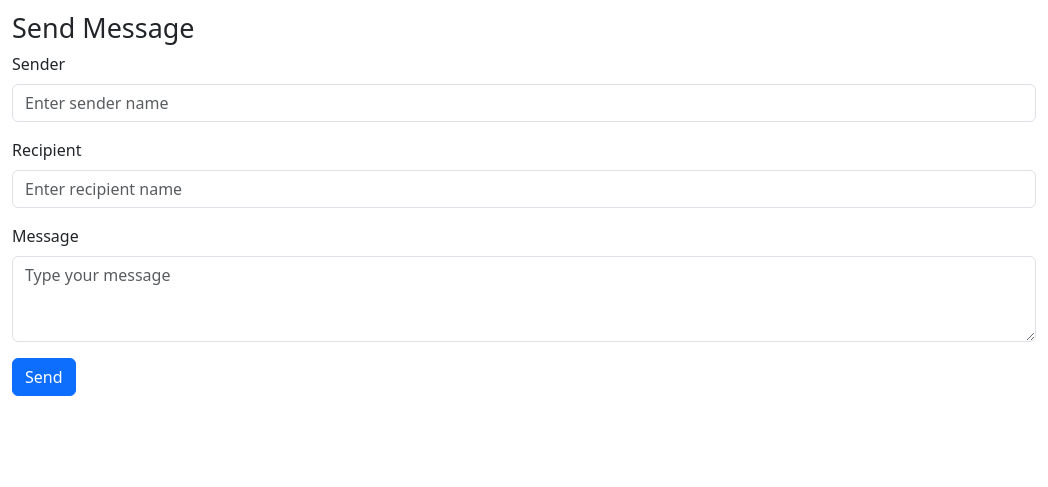
Test: MessageForm Component › shows validation error when fields are empty
Click the button "Send" at (44, 377), box [12, 358, 76, 396]
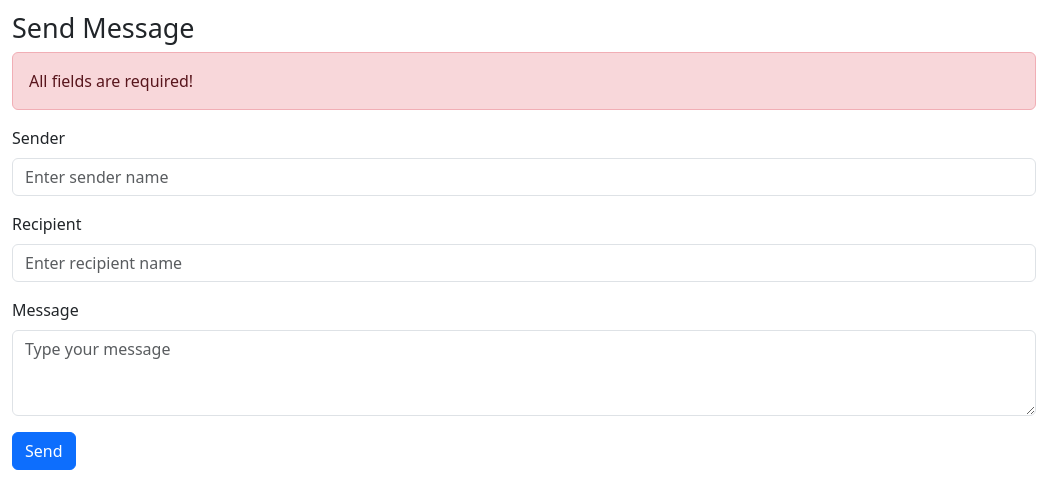
Now the text "All fields are required!" is shown, box [12, 52, 1036, 110]
